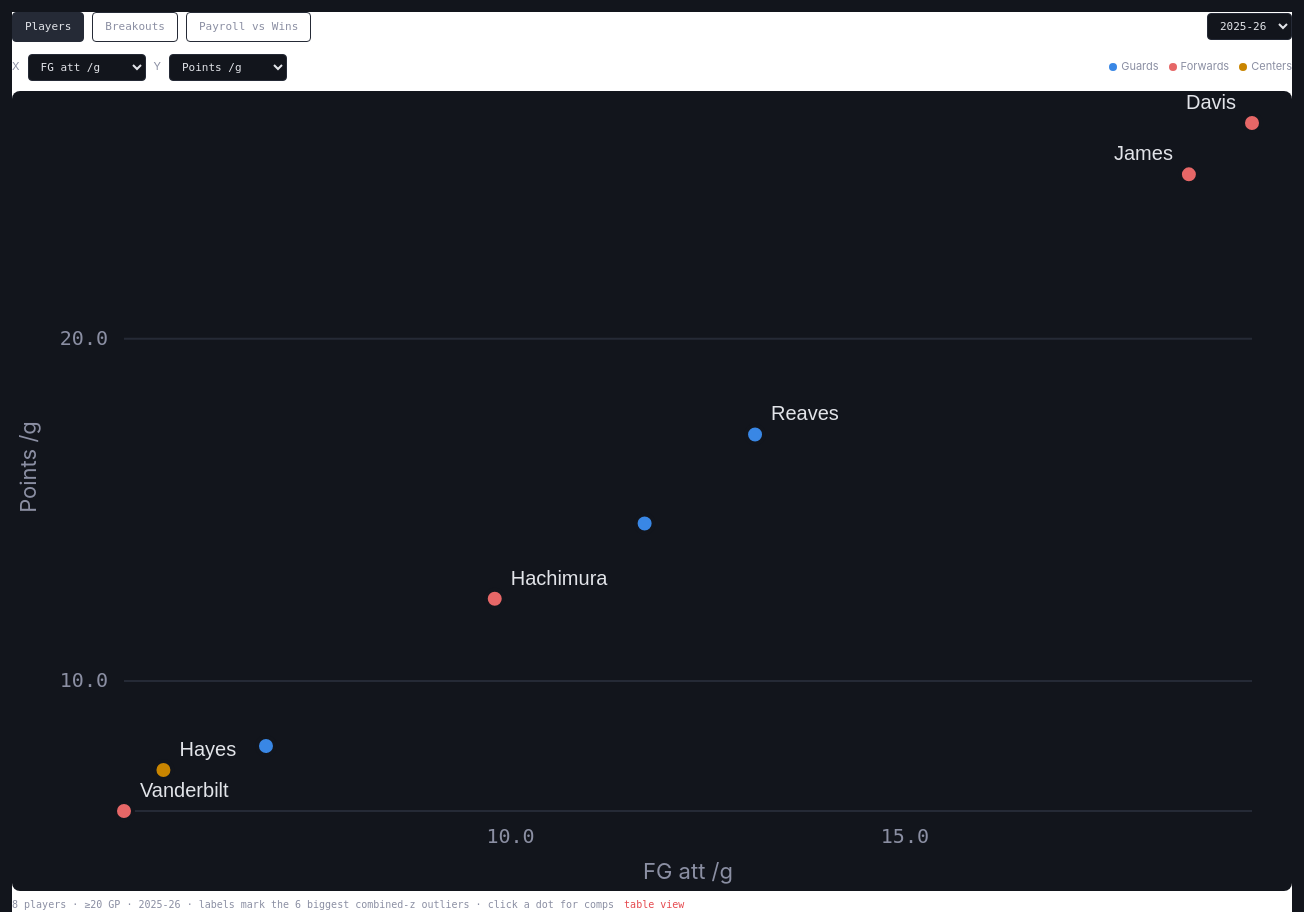
LeagueLens — table view › toggles the player table and ranks it by the Y axis
Click the button "table view".
click(654, 905)  # box [624,897,684,911]
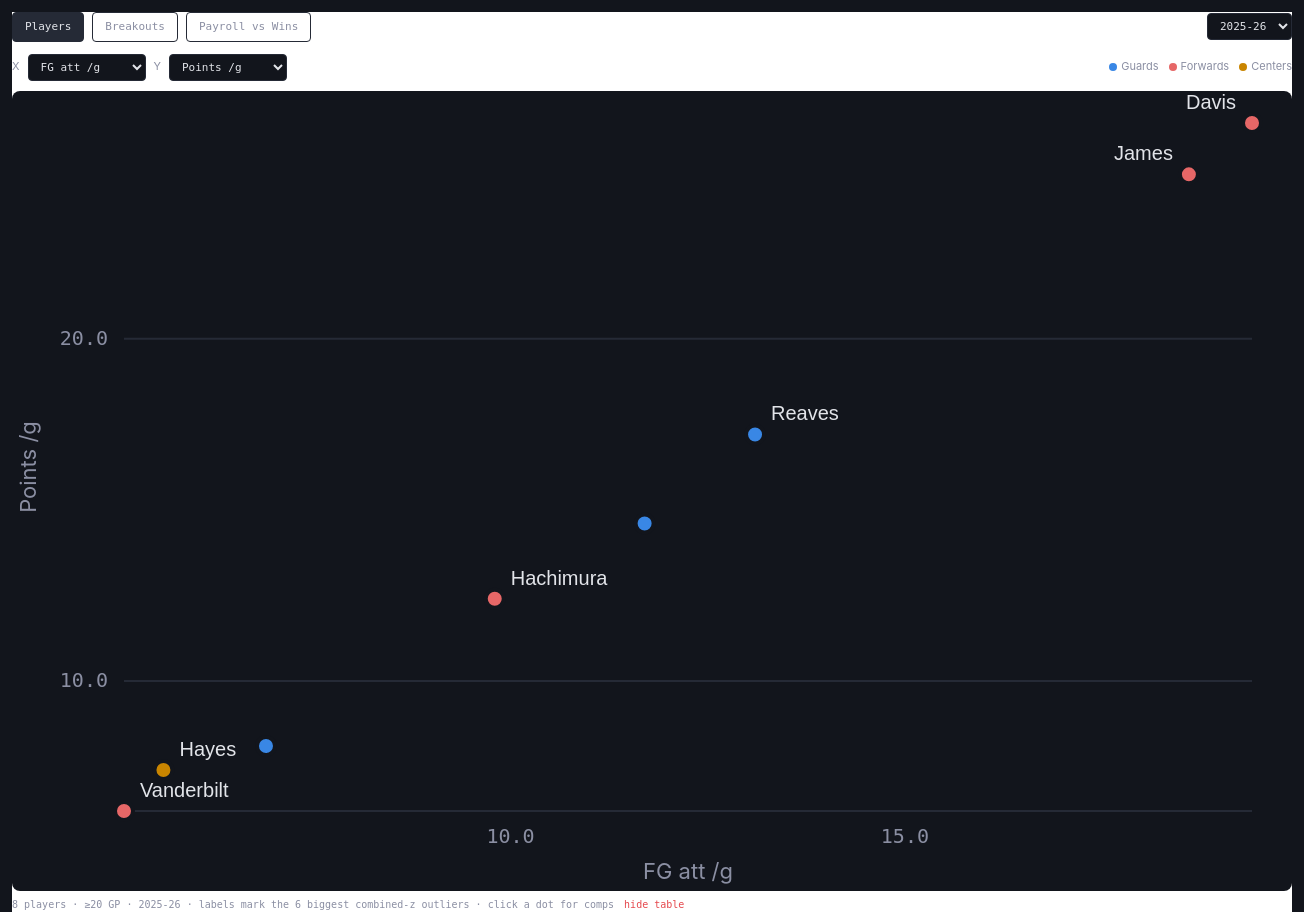
Result: the button "hide table" is shown
Click the button "hide table".
click(654, 905)  # box [624,897,684,911]
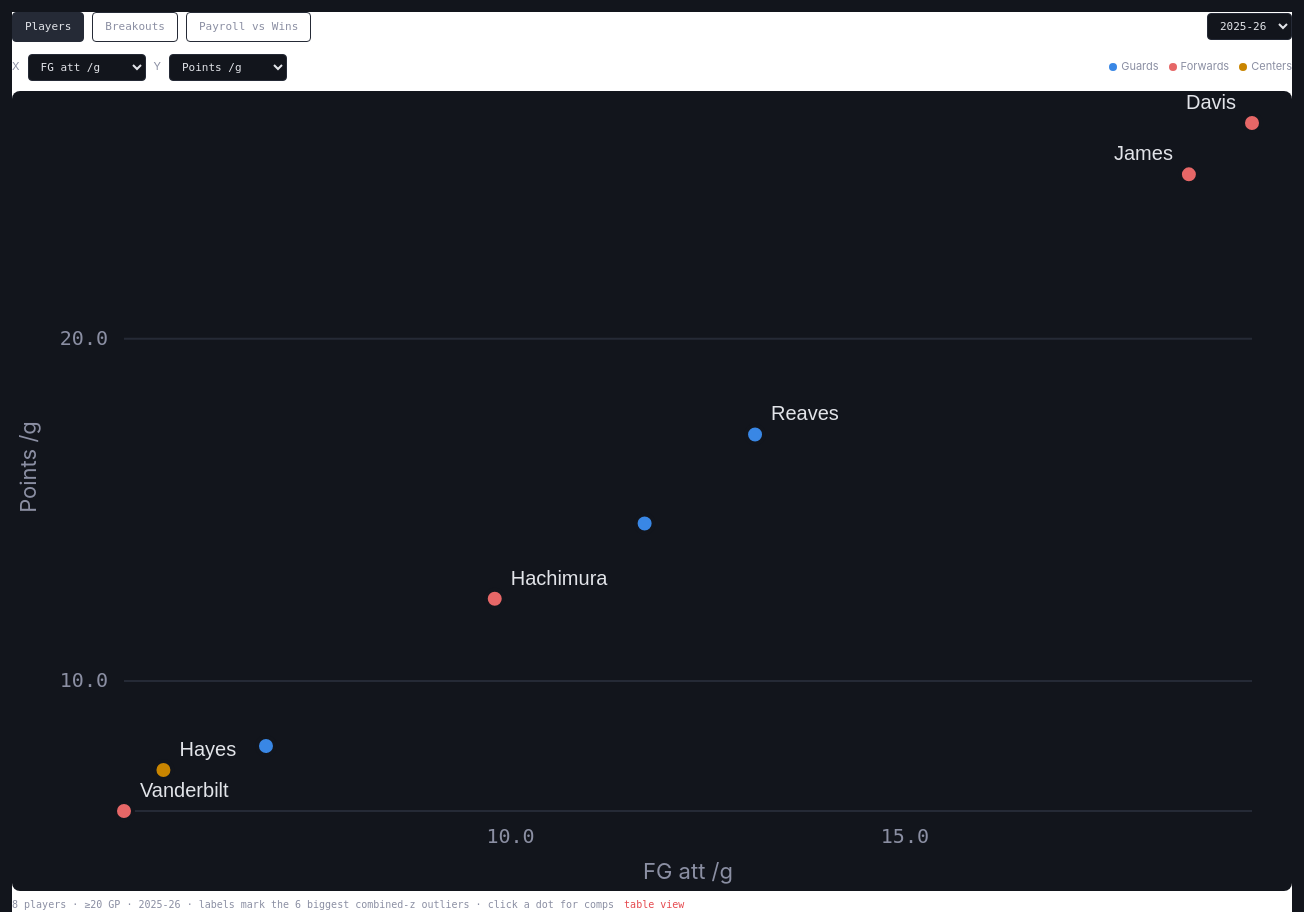
Result: the button "table view" is shown at [624,897,684,911]
